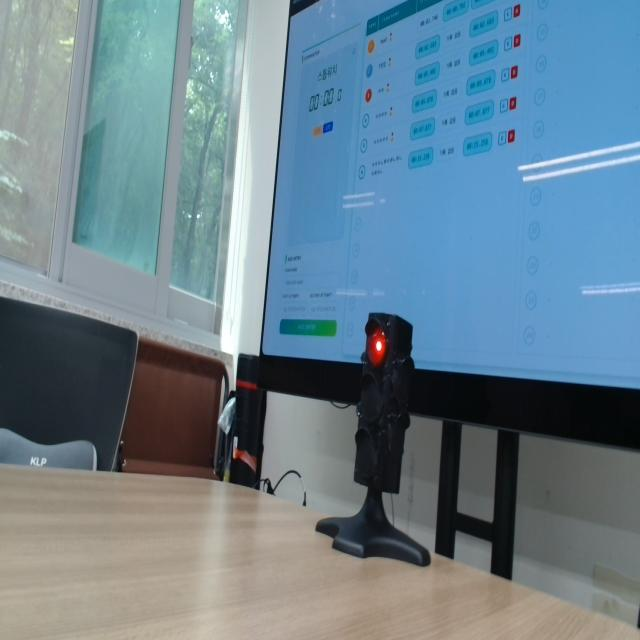red_light: (366, 326, 387, 367)
